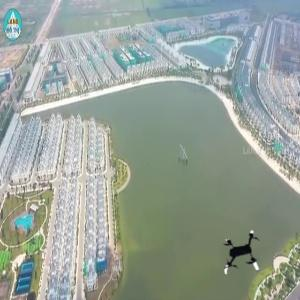drone: (217, 230, 271, 284)
